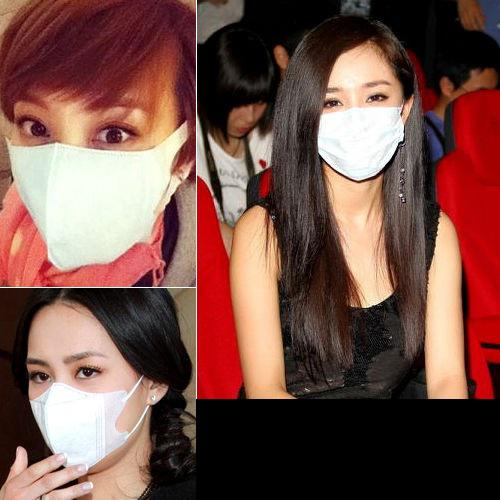NONE: (442, 57, 499, 114), (218, 92, 268, 140)
OK: (11, 71, 172, 262), (28, 323, 144, 468), (312, 60, 405, 178)
